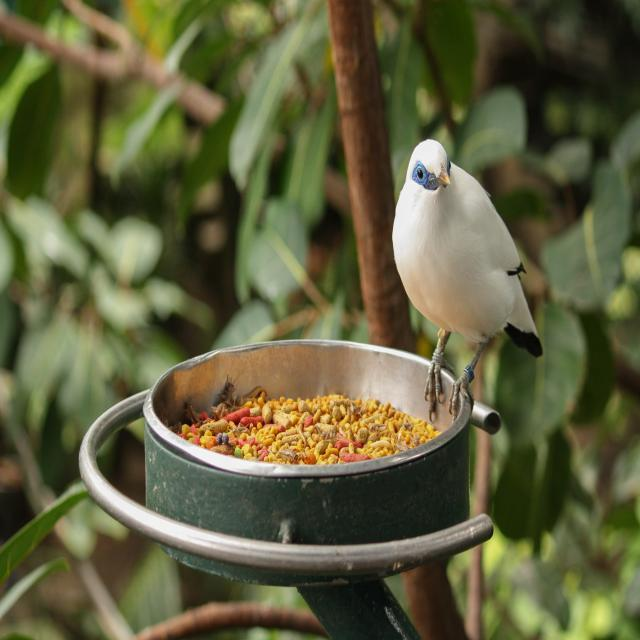Jalak Bali: (371, 126, 565, 439)
